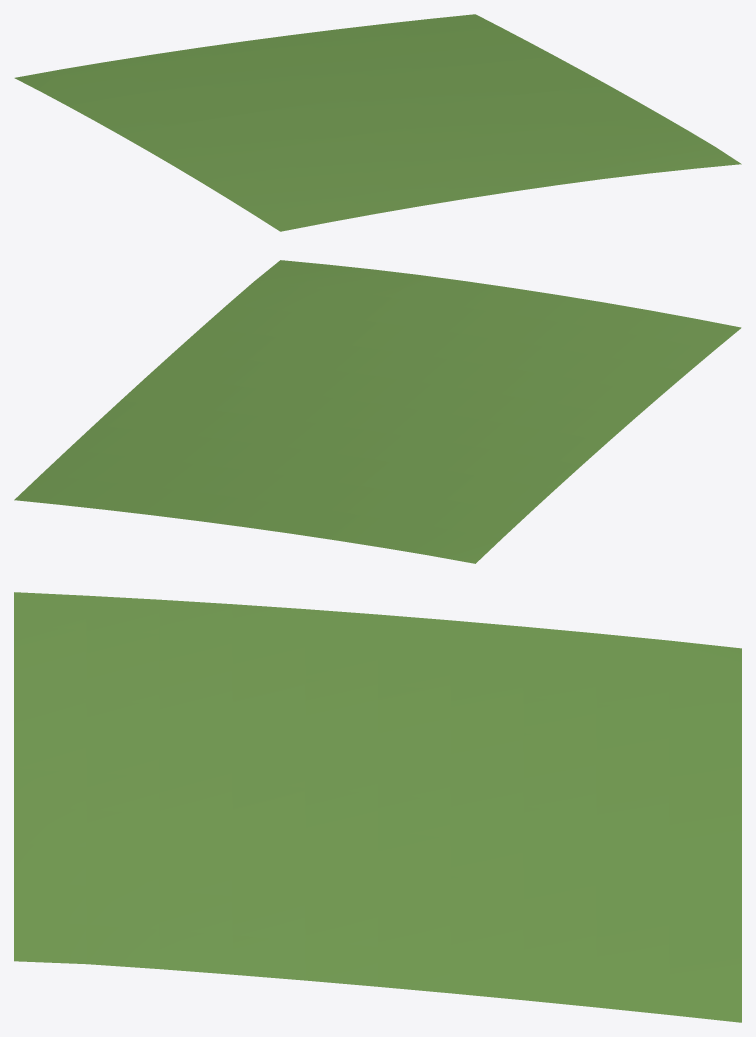
File: terrain-12-13.gltf
3 views of the same model, one above another, from view 1: azimuth 30°, elevation 25°; view 2: azimuth 150°, elevation 25°; view 3: azimuth 270°, elevation 25° (orthographic). The views are drawn at different scales.
Bounding box in the file's own units: 50 × 9.32 × 50.
